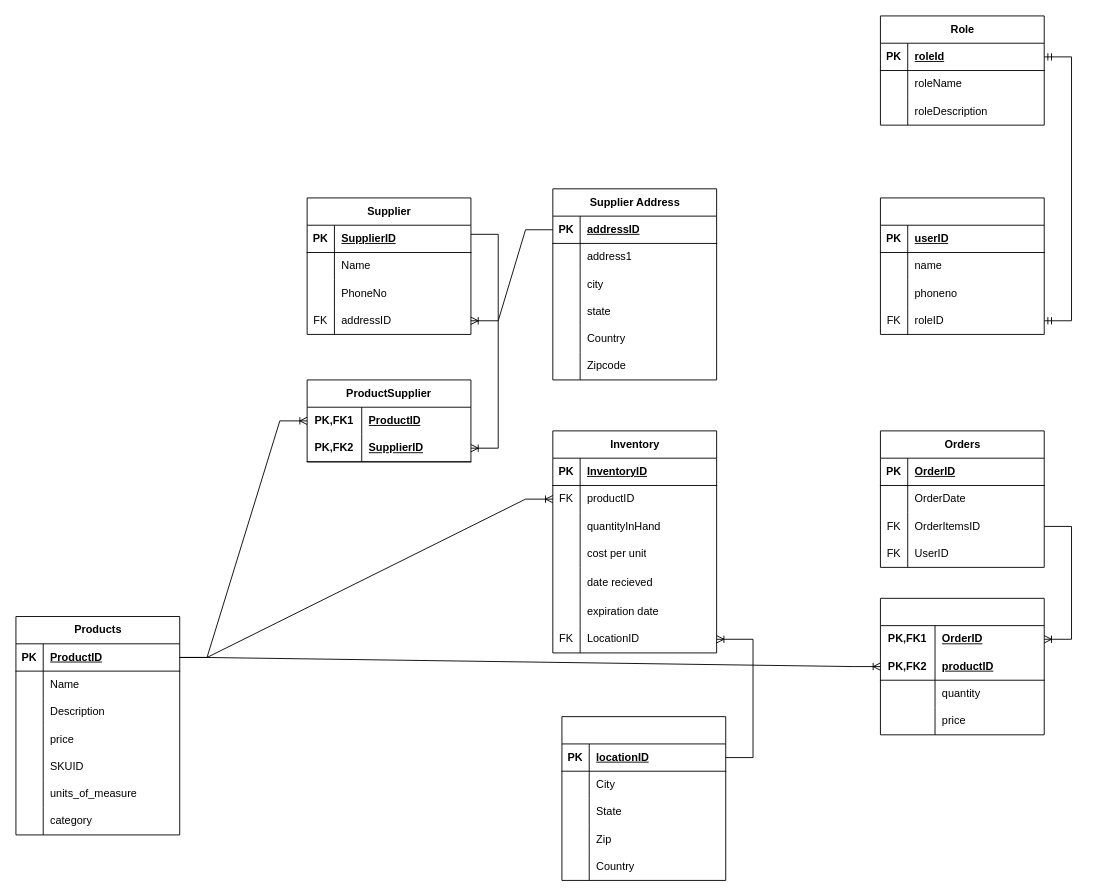
Image size: 1096x896. Some labels were removed from this diagram. Here are the shapes that lost their labels. From the top down, the box of each, then its label:
(880, 197, 1044, 334): Users
(880, 597, 1044, 735): OrderItems
(561, 716, 726, 880): WareHouseLocations
